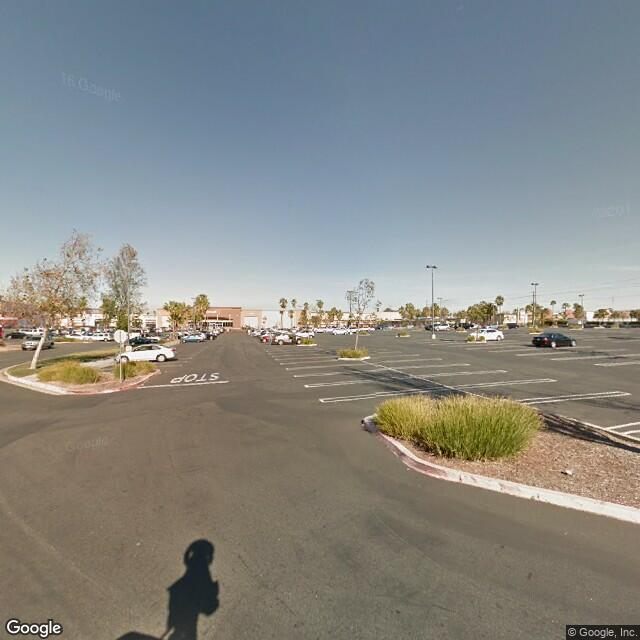litter: (561, 466, 572, 477), (405, 465, 411, 471)
